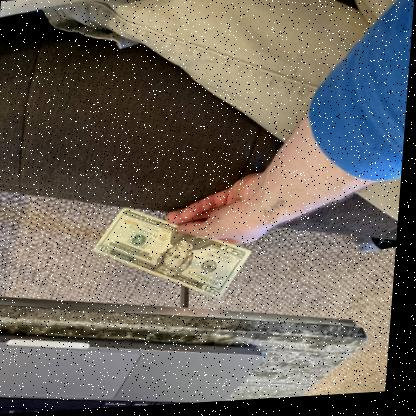twenty-front: (93, 205, 249, 298)
